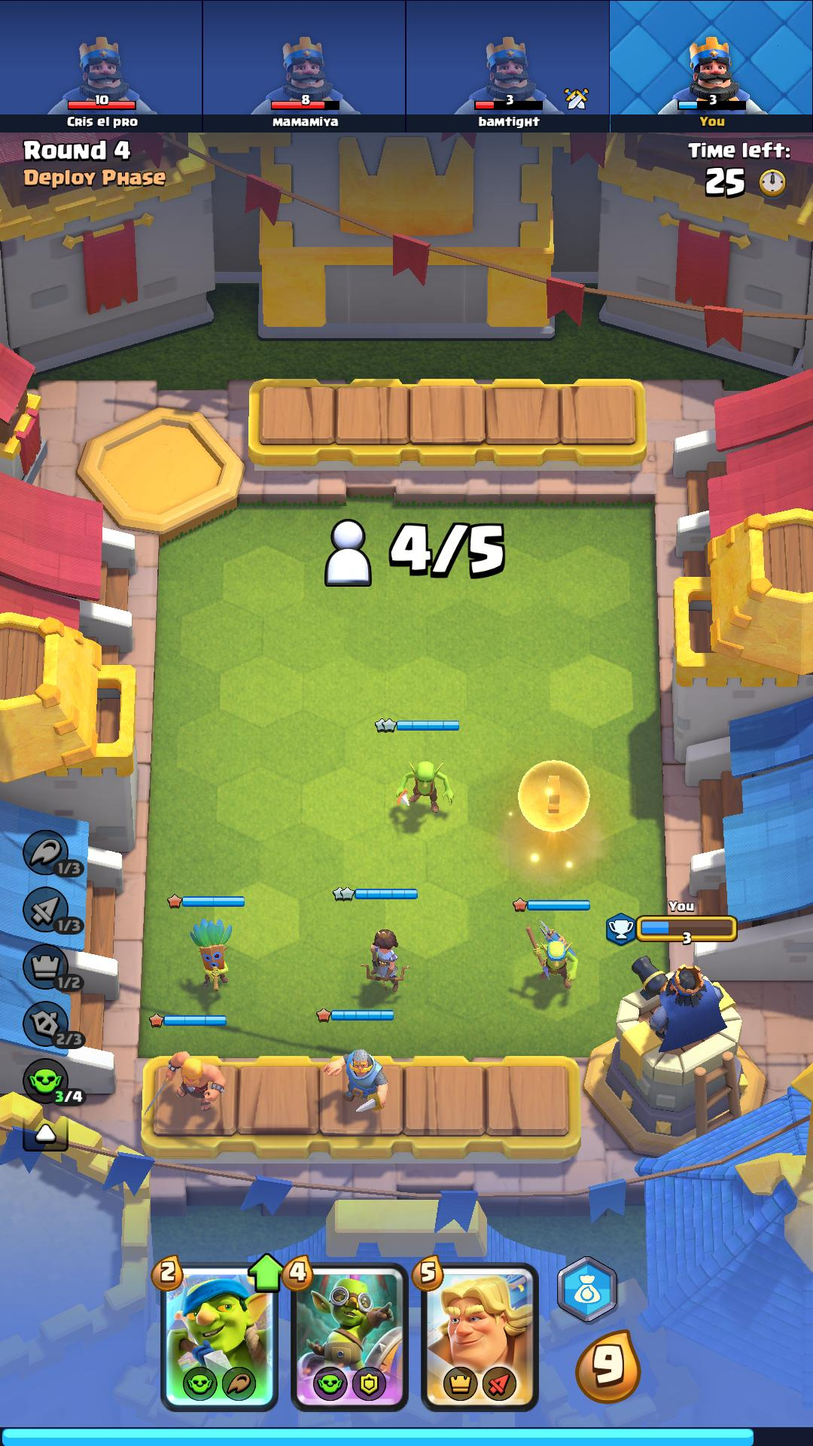barbarian: (146, 1048, 238, 1121)
dart: (185, 919, 238, 990)
goblin: (391, 758, 457, 815)
knight: (315, 1045, 398, 1119)
orb: (517, 758, 594, 838)
princess: (356, 919, 419, 996)
spear: (517, 915, 589, 990)
